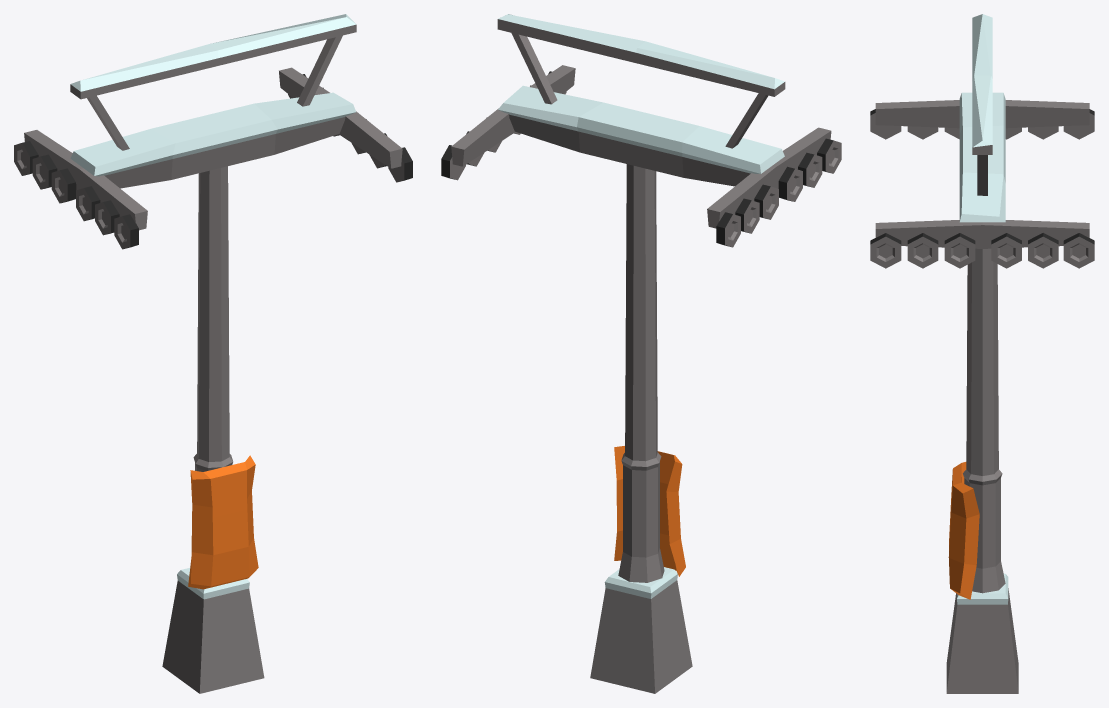
File: ski-lift-stake.glb
3 views of the same model, side by side, from view 1: azimuth 30°, elevation 25°; view 2: azimuth 150°, elevation 25°; view 3: azimuth 270°, elevation 25° (orthographic). The views are drawn at different scales.
Visible parts, largest first — view 1: ski-lift-stake; view 2: ski-lift-stake; view 3: ski-lift-stake.
Boxes of the visible parts, box(x1,y1,x2,y2) form: ski-lift-stake: box(14, 14, 412, 693); ski-lift-stake: box(441, 14, 841, 693); ski-lift-stake: box(870, 14, 1094, 693).
Size of the model in its own units: 4.28 by 9.04 by 3.04.
1 material, 1 textured.
